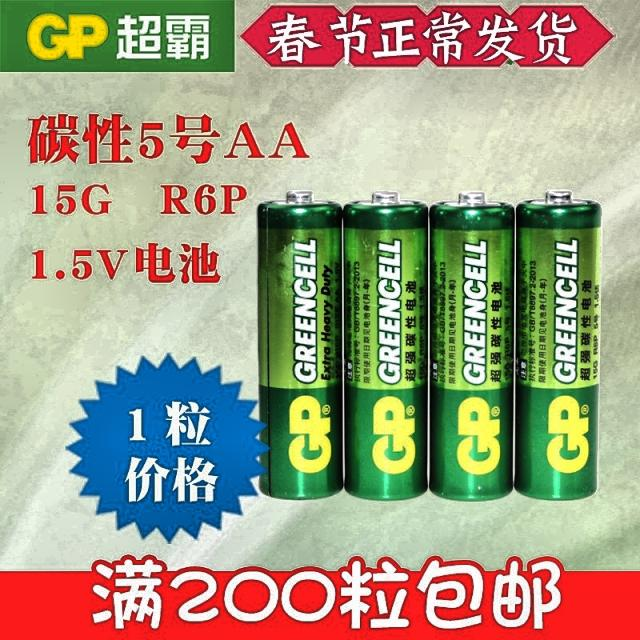Non-Valuable Waste - Batteries: (515, 191, 600, 499), (344, 191, 428, 499), (258, 191, 342, 498), (430, 192, 514, 499)
